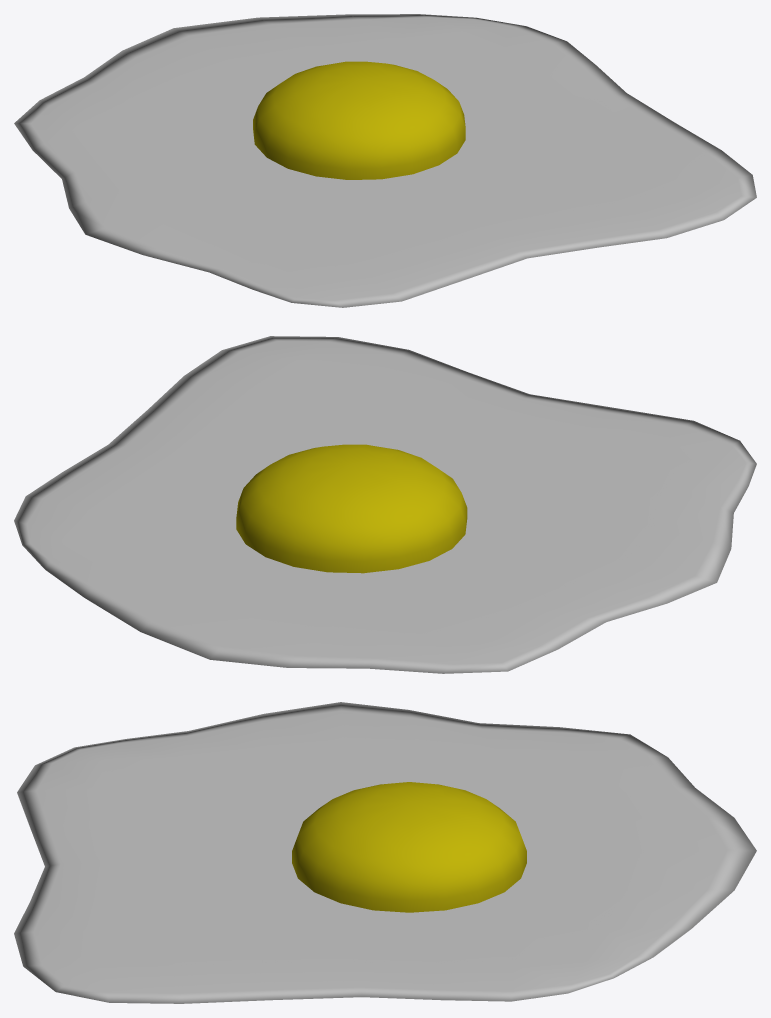
The model's file is Egg_cooked.gltf.
3 renders of one model, top to bottom at view 1: azimuth 30°, elevation 25°; view 2: azimuth 150°, elevation 25°; view 3: azimuth 270°, elevation 25°, orthographic. The views are drawn at different scales.
Parts seen in each view (by area): view 1: Egg_cooked; view 2: Egg_cooked; view 3: Egg_cooked.
Part boxes in pixels (x1,y1,x2,y2): Egg_cooked: (14,14,756,307); Egg_cooked: (14,336,756,673); Egg_cooked: (14,702,756,1003).
Bounding box in the file's own units: 4.09 × 0.4166 × 4.25.
